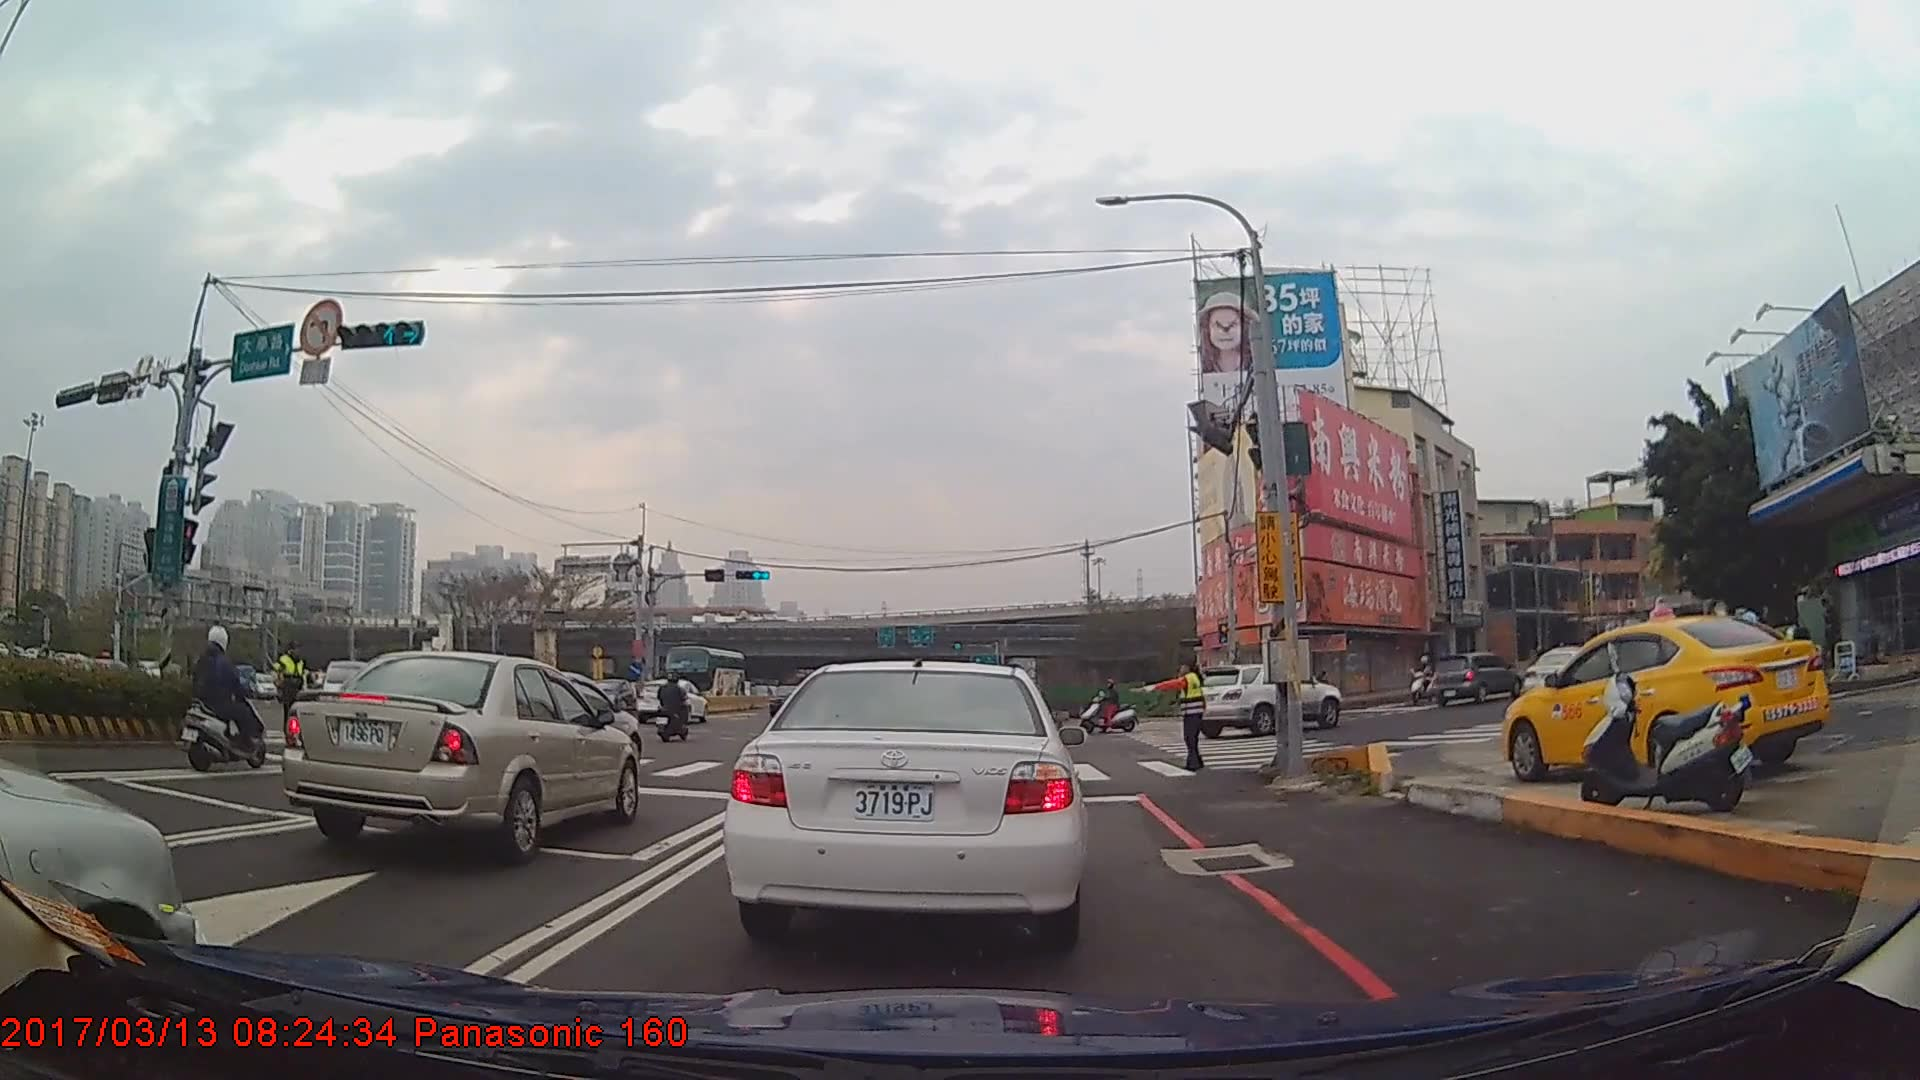pedestrian: (1130, 656, 1212, 775), (270, 640, 315, 747)
rider: (181, 622, 274, 770), (1082, 679, 1140, 734), (654, 673, 692, 741), (662, 677, 687, 736), (1409, 655, 1438, 703)
vehicle: (718, 654, 1087, 944), (280, 649, 638, 863), (1501, 609, 1828, 787), (1188, 662, 1340, 736), (1425, 650, 1518, 708), (662, 645, 744, 703), (1519, 645, 1596, 705), (634, 676, 706, 728)
